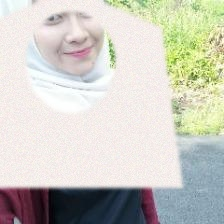Mukena: (0, 0, 182, 188)
